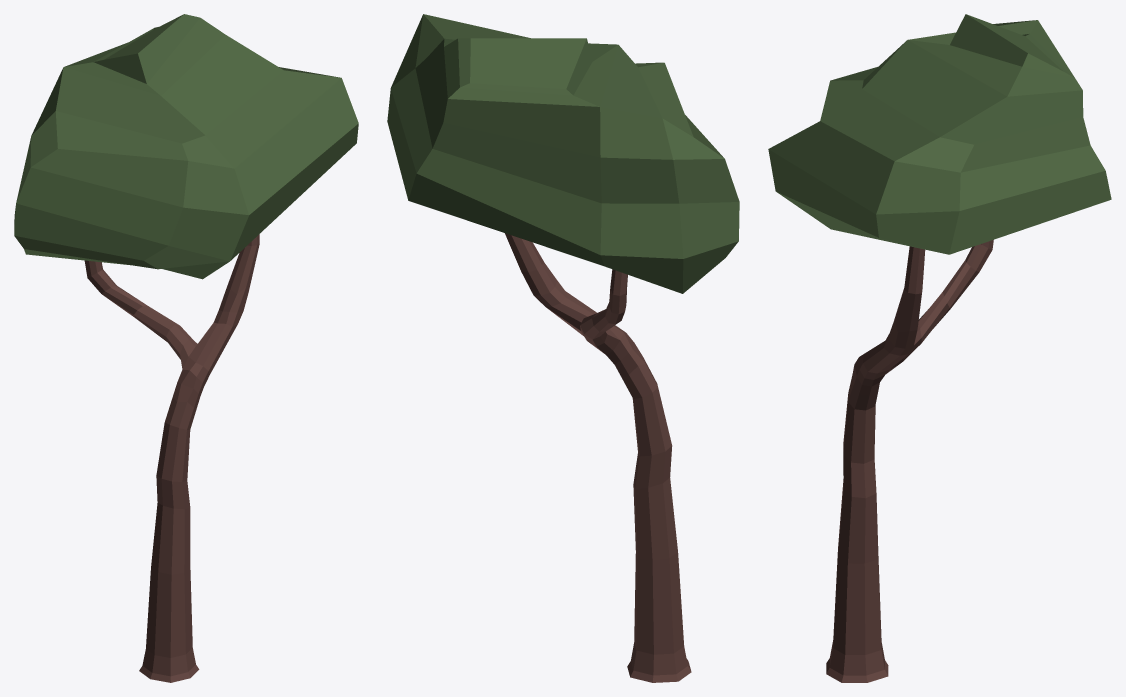
Rendered from Apple_3.gltf.
The picture shows the model from 3 angles, left to right: view 1: azimuth 30°, elevation 25°; view 2: azimuth 150°, elevation 25°; view 3: azimuth 270°, elevation 25°; orthographic projection. The views are drawn at different scales.
Parts seen in each view (by area): view 1: Apple_3; view 2: Apple_3; view 3: Apple_3.
Part boxes in pixels (left/top/right/bottom): Apple_3: left=14, top=14, right=358, bottom=682; Apple_3: left=387, top=14, right=739, bottom=682; Apple_3: left=768, top=14, right=1111, bottom=682.
Size of the model in its own units: 1.17 by 2.09 by 0.974.
